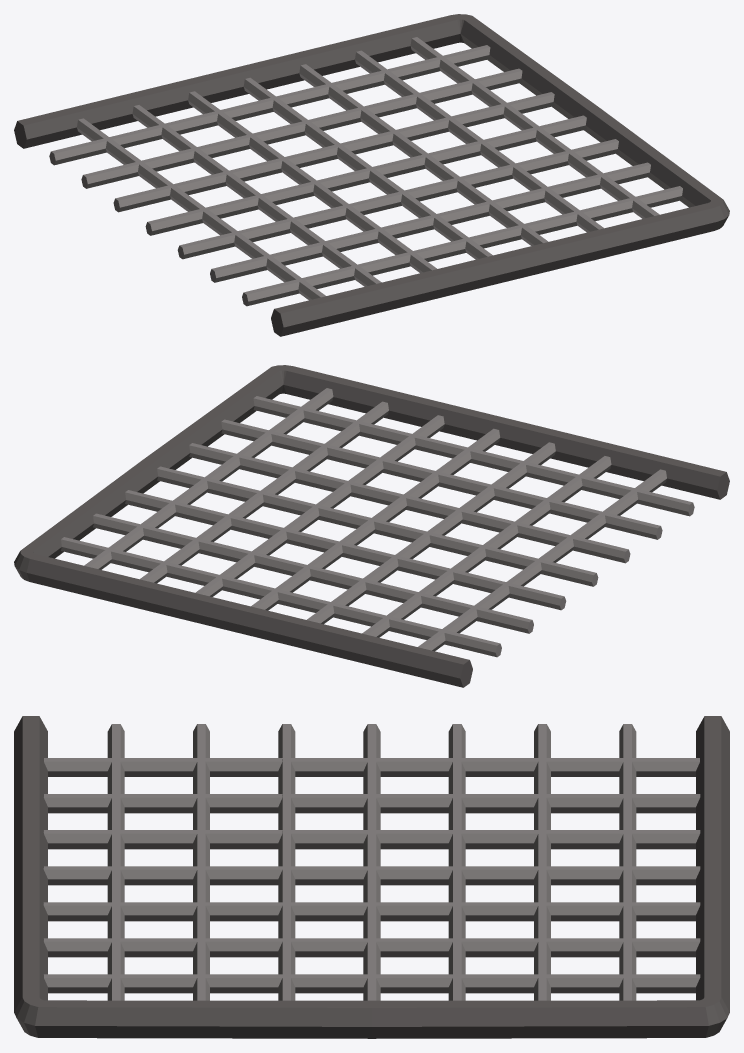
File: tubeRoadEnd.fbx
3 views of the same model, one above another, from view 1: azimuth 30°, elevation 25°; view 2: azimuth 150°, elevation 25°; view 3: azimuth 270°, elevation 25° (orthographic). The views are drawn at different scales.
Visible parts, largest first — view 1: Cylinder.009; view 2: Cylinder.009; view 3: Cylinder.009.
Boxes of the visible parts, x1,y1,x2,y2 form: Cylinder.009: (14, 14, 729, 336); Cylinder.009: (14, 365, 729, 687); Cylinder.009: (14, 716, 729, 1038).
Bounding box in the file's own units: 410 × 20 × 420.
